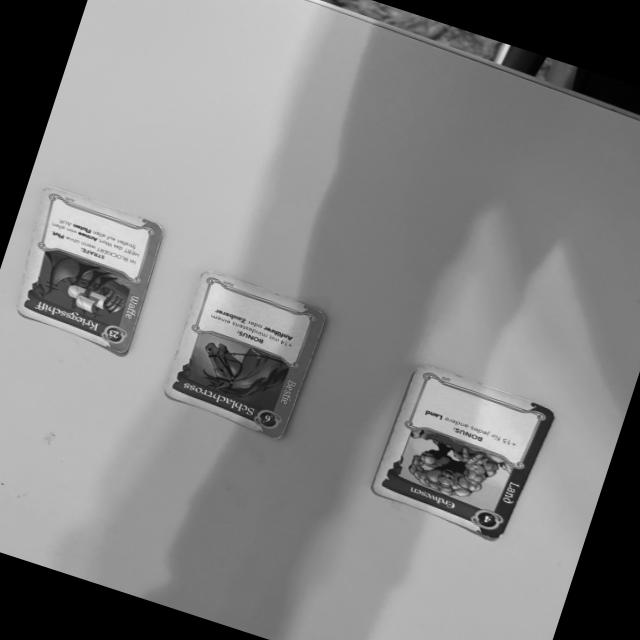Earth Elemental: (366, 363, 553, 539)
War Horse: (162, 271, 327, 440)
Warship: (14, 188, 165, 354)
